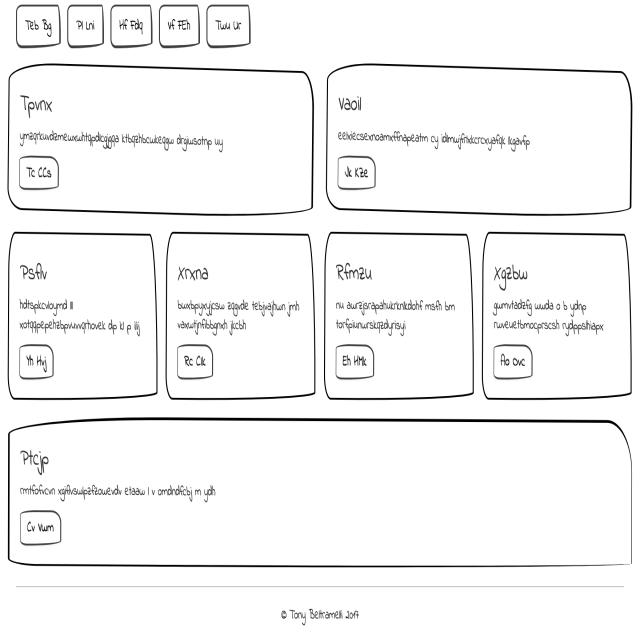Button: (17, 506, 63, 550), (15, 337, 58, 383), (336, 150, 377, 195), (332, 340, 376, 379), (175, 342, 214, 381), (491, 342, 533, 378), (18, 155, 59, 186)
Card: (11, 420, 633, 568), (329, 60, 630, 214), (7, 64, 315, 210), (165, 227, 315, 401), (322, 228, 473, 400), (482, 230, 632, 403), (6, 230, 158, 399)
Footer: (0, 583, 640, 640)
Heading 6: (333, 252, 377, 289), (19, 88, 56, 125), (490, 262, 530, 296), (20, 88, 54, 124), (15, 254, 50, 288), (16, 445, 52, 478), (336, 91, 363, 111)
Navigation Bar: (13, 1, 254, 54)
Paragraph: (13, 474, 219, 512), (17, 297, 143, 343), (334, 124, 532, 153), (332, 292, 456, 336), (172, 295, 300, 336), (17, 128, 230, 152), (492, 298, 606, 338)
